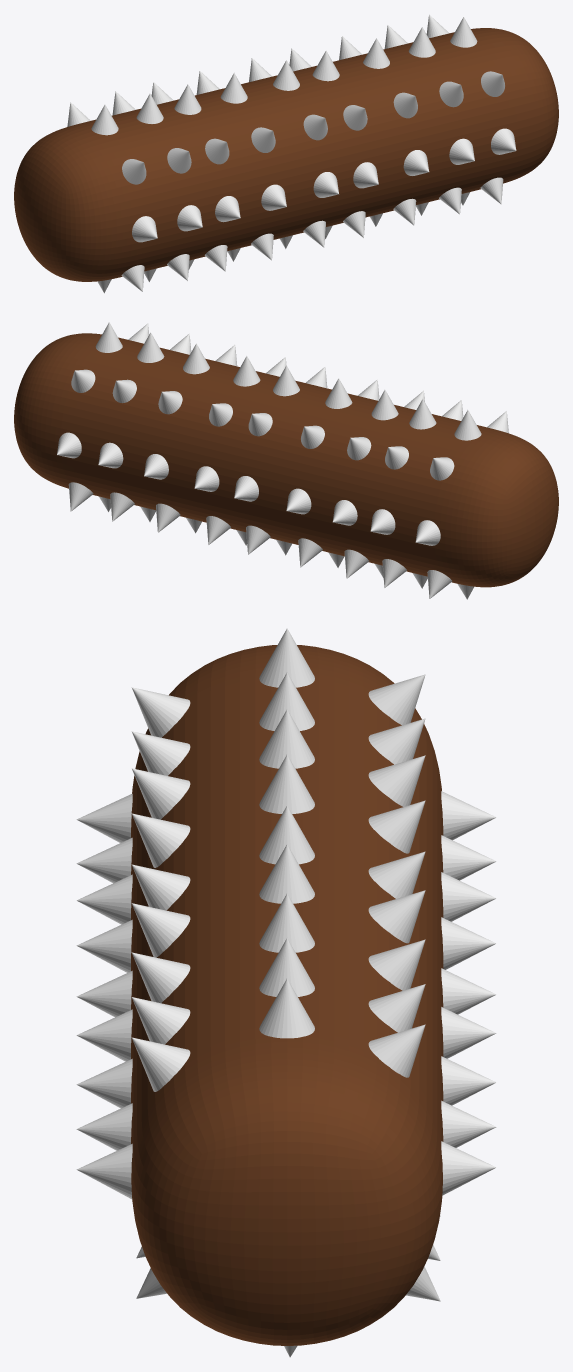
Rendered from Block.fbx.
The picture shows the model from 3 angles, top to bottom: view 1: azimuth 30°, elevation 25°; view 2: azimuth 150°, elevation 25°; view 3: azimuth 270°, elevation 25°; orthographic projection. The views are drawn at different scales.
Parts seen in each view (by area): view 1: Cube, Конус.028, Конус.034, Конус.029, Конус.032, Конус.033, Конус.030, Конус.035, Конус.027, Конус.031, Конус.037, Конус.043 (+25 smaller); view 2: Cube, Конус.015, Конус.010, Конус.011, Конус.013, Конус.014, Конус.016, Конус.009, Конус.012, Конус.017, Конус.001, Конус.004 (+25 smaller); view 3: Cube, Конус.002, Конус.006, Конус.007, Конус.004, Конус.003, Конус.001, Конус.038, Конус.042, Конус.043, Конус.008, Конус.040 (+34 smaller).
Boxes of the visible parts, <box> form: Cube: <box>14,28,558,281</box>; Конус.028: <box>132,216,157,242</box>; Конус.034: <box>353,162,378,188</box>; Конус.029: <box>491,128,516,154</box>; Конус.032: <box>177,205,202,231</box>; Конус.033: <box>261,184,286,210</box>; Конус.030: <box>403,150,429,175</box>; Конус.035: <box>449,138,474,164</box>; Конус.027: <box>313,172,338,197</box>; Конус.031: <box>215,196,240,222</box>; Конус.037: <box>122,159,146,184</box>; Конус.043: <box>343,105,367,130</box>; Cube: <box>14,333,558,587</box>; Конус.015: <box>286,488,311,514</box>; Конус.010: <box>415,520,440,545</box>; Конус.011: <box>57,432,81,458</box>; Конус.013: <box>332,500,357,525</box>; Конус.014: <box>370,509,395,534</box>; Конус.016: <box>194,466,219,491</box>; Конус.009: <box>234,476,258,501</box>; Конус.012: <box>144,454,168,479</box>; Конус.017: <box>98,442,123,468</box>; Конус.001: <box>454,410,481,440</box>; Конус.004: <box>371,390,398,420</box>; Cube: <box>131,645,443,1345</box>; Конус.002: <box>259,978,314,1038</box>; Конус.006: <box>259,754,314,813</box>; Конус.007: <box>259,844,314,903</box>; Конус.004: <box>259,709,314,768</box>; Конус.003: <box>259,893,314,952</box>; Конус.001: <box>259,628,314,687</box>; Конус.038: <box>131,1037,190,1091</box>; Конус.042: <box>131,813,190,867</box>; Конус.043: <box>131,903,190,957</box>; Конус.008: <box>259,938,314,996</box>; Конус.040: <box>132,768,190,819</box>.
Size of the model in its own units: 225 by 79.63 by 79.9.
